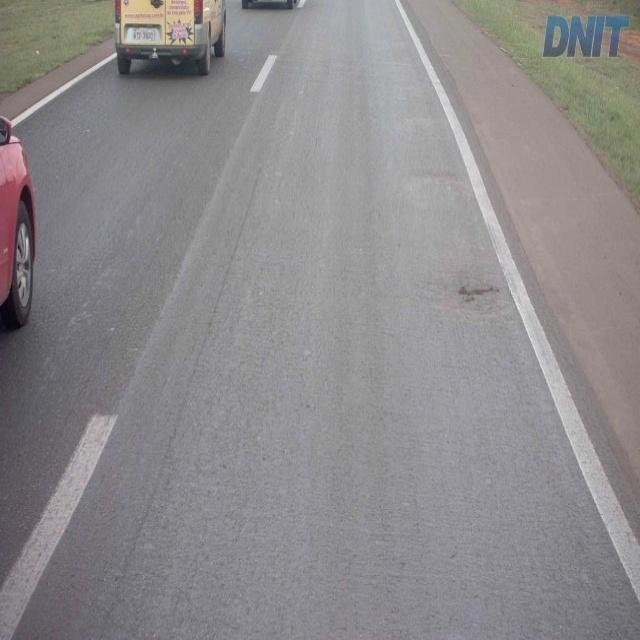pothole: (458, 284, 500, 304)
